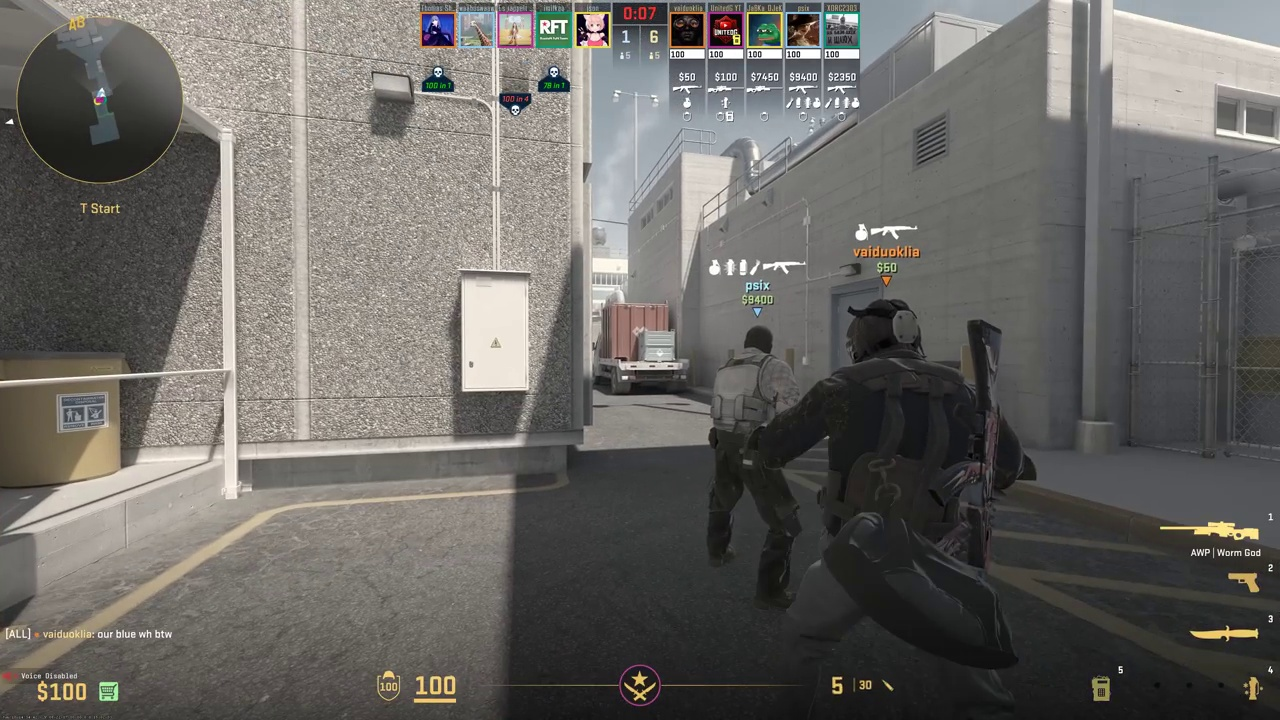Terrorist: (809, 297, 1020, 654), (708, 325, 803, 604)
